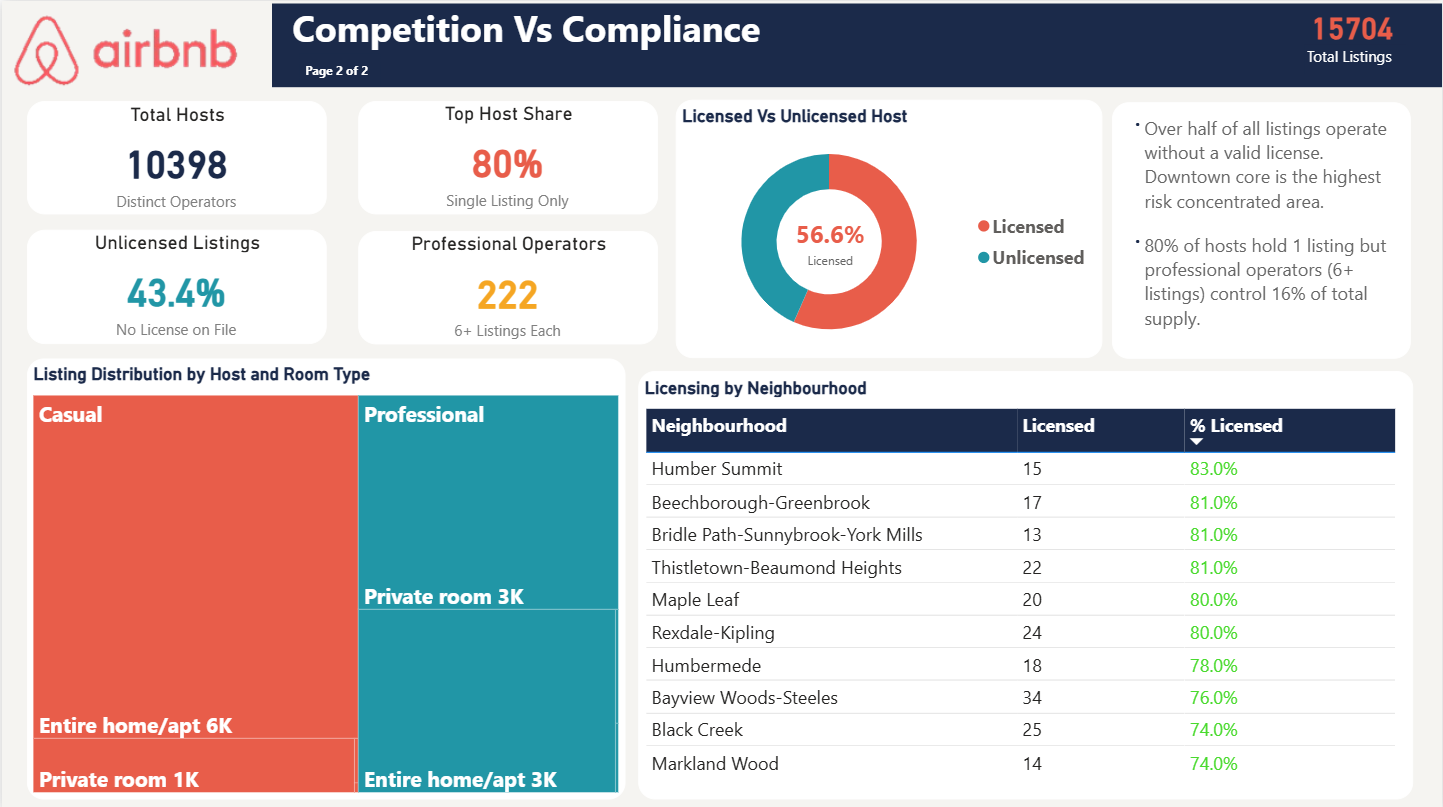

The page's visual inventory and layout, read from the dashboard file:
{"tool":"powerbi","page":{"name":"Competitive & Compliance","canvas":[1280,720],"ordinal":1},"visuals":[{"type":"donutChart","title":"Licensed Vs Unlicensed Host","fields":{"Category":["Licensing%.licensed_flag"],"Y":["Sum(Licensing%.pct_of_total)"]},"box":[598.7,88,379.4,229.4],"z":0},{"type":"treemap","title":"Listing Distribution by Host and Room Type","fields":{"Group":["Host Type.host_type"],"Values":["Sum(Host Type.listing_count)"],"Details":["Host Type.room_type"]},"box":[22.8,317.6,532.1,391.9],"z":1000},{"type":"textbox","box":[240,2,1040,74],"z":2000,"group":"g1"},{"type":"tableEx","title":"Licensing by Neighbourhood","fields":{"Values":["Licensing By Neighbourhood.neighbourhood","Licensing By Neighbourhood.licensed","Licensing By Neighbourhood.licensed_pct"]},"box":[565.7,328.4,689.1,381.1],"z":2000},{"type":"group","id":"g1","title":"Group 2","box":[240,2,1040,74],"z":3000},{"type":"textbox","box":[264,47,72,29],"z":4000},{"type":"textbox","box":[694,186.1,83.7,69.3],"z":5000},{"type":"card","title":"Total Hosts","fields":{"Values":["Sum(KPIs-2.total_hosts)"]},"box":[22.8,88.7,266.1,101],"z":6000},{"type":"card","title":"Top Host Share","fields":{"Values":["Min(KPIs-2.casual_host_pct)"]},"box":[316.4,88.7,266,101],"z":7000},{"type":"card","fields":{"Values":["Sum(KPIs.total_listings)"]},"box":[1157.5,2,83.8,41.2],"z":8000,"group":"g1"},{"type":"card","title":"Unlicensed Listings","fields":{"Values":["Min(KPIs-2.unlicensed_pct)"]},"box":[22.8,203.7,266.1,101.9],"z":8000},{"type":"card","title":"Professional Operators","fields":{"Values":["Sum(KPIs-2.professional_hosts)"]},"box":[316.4,204.9,266.1,101],"z":9000},{"type":"textbox","box":[986.8,89.5,265.5,228],"z":10000},{"type":"textbox","box":[1158,39.3,89.3,26],"z":11000}]}

Visuals, with their boxes in screenshot pixels (x1, y1, x2, y2), scaled from the page's 1280x720 canvas onto the 1443x807 screenshot:
"Licensed Vs Unlicensed Host" donutChart: [left=675, top=99, right=1103, bottom=356]
"Listing Distribution by Host and Room Type" treemap: [left=26, top=356, right=626, bottom=795]
textbox: [left=271, top=2, right=1442, bottom=85]
"Licensing by Neighbourhood" tableEx: [left=638, top=368, right=1415, bottom=795]
"Group 2" group: [left=271, top=2, right=1442, bottom=85]
textbox: [left=298, top=53, right=379, bottom=85]
textbox: [left=782, top=209, right=877, bottom=286]
"Total Hosts" card: [left=26, top=99, right=326, bottom=213]
"Top Host Share" card: [left=357, top=99, right=657, bottom=213]
card - Sum(KPIs.total_listings): [left=1305, top=2, right=1399, bottom=48]
"Unlicensed Listings" card: [left=26, top=228, right=326, bottom=343]
"Professional Operators" card: [left=357, top=230, right=657, bottom=343]
textbox: [left=1112, top=100, right=1412, bottom=356]
textbox: [left=1305, top=44, right=1406, bottom=73]
